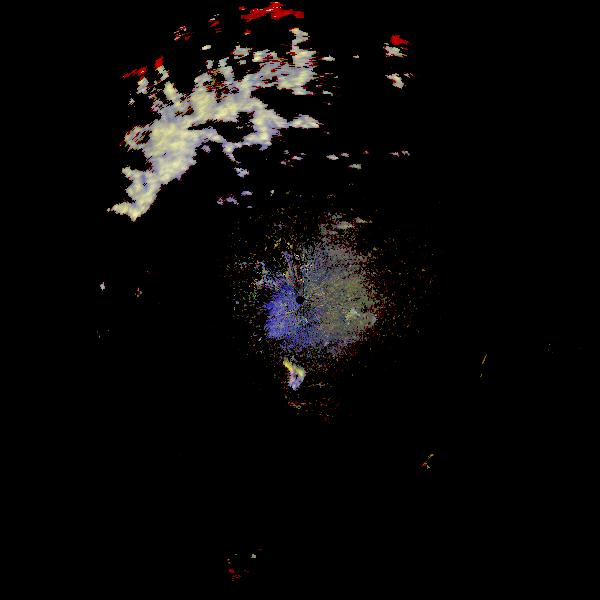roost: (469, 336, 538, 405), (275, 356, 314, 395), (419, 448, 452, 481), (267, 188, 279, 200)
